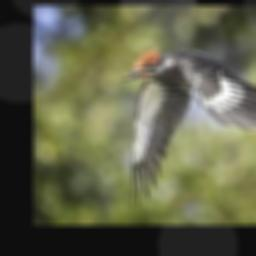Woodpecker: (122, 46, 256, 210)
